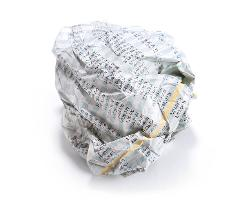paper: (52, 20, 196, 178)
